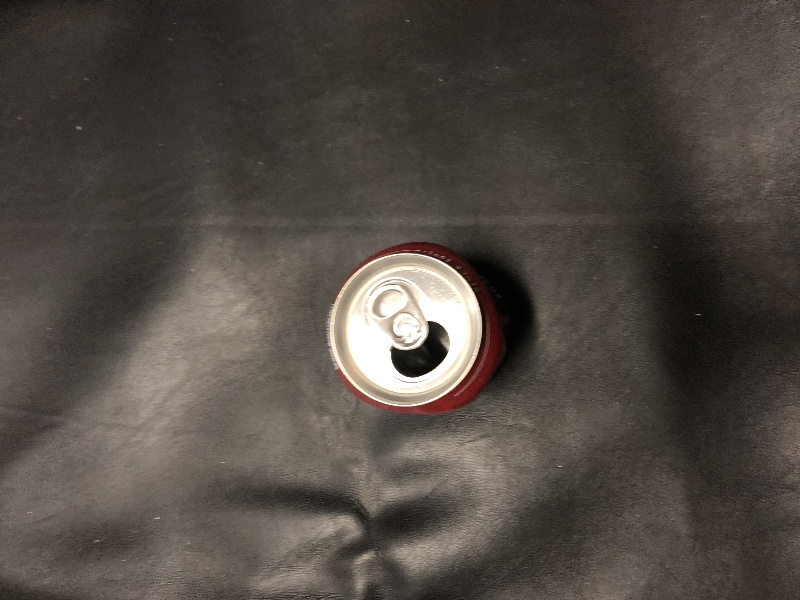metal: (314, 233, 534, 420)
